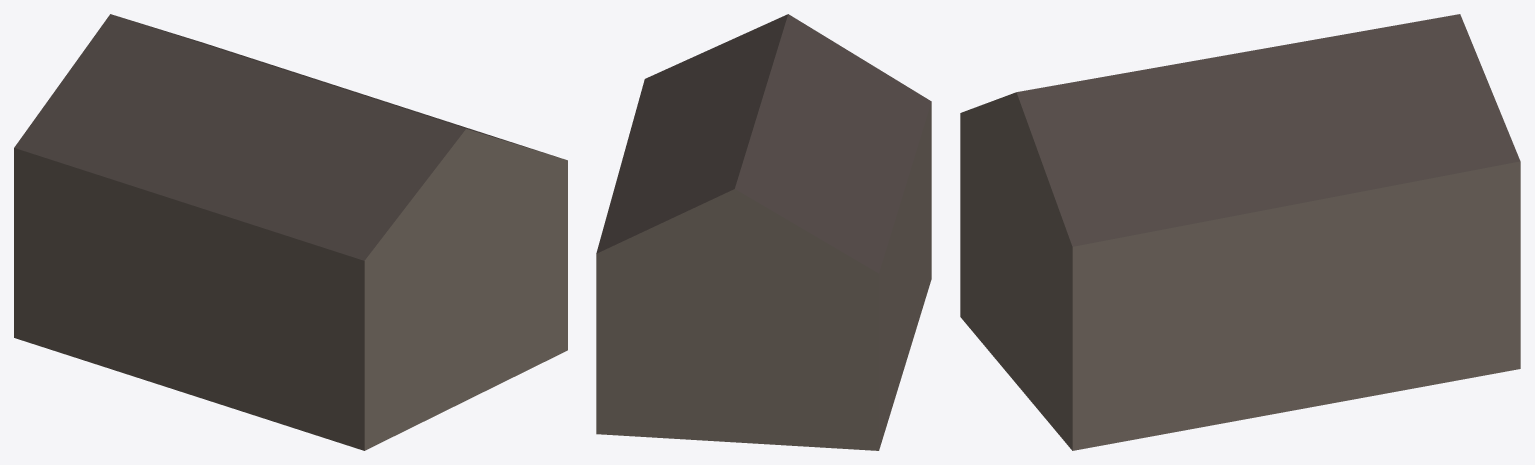
The picture shows the model from 3 angles, left to right: view 1: azimuth 30°, elevation 25°; view 2: azimuth 150°, elevation 25°; view 3: azimuth 270°, elevation 25°; orthographic projection. The views are drawn at different scales.
Visible parts, largest first — view 1: HP-w378107128; view 2: HP-w378107128; view 3: HP-w378107128.
Boxes of the visible parts, left/top/right/bottom form: HP-w378107128: left=14, top=14, right=567, bottom=450; HP-w378107128: left=596, top=14, right=931, bottom=450; HP-w378107128: left=960, top=14, right=1520, bottom=450.
Bounding box in the file's own units: 19.94 × 12.87 × 22.39.
